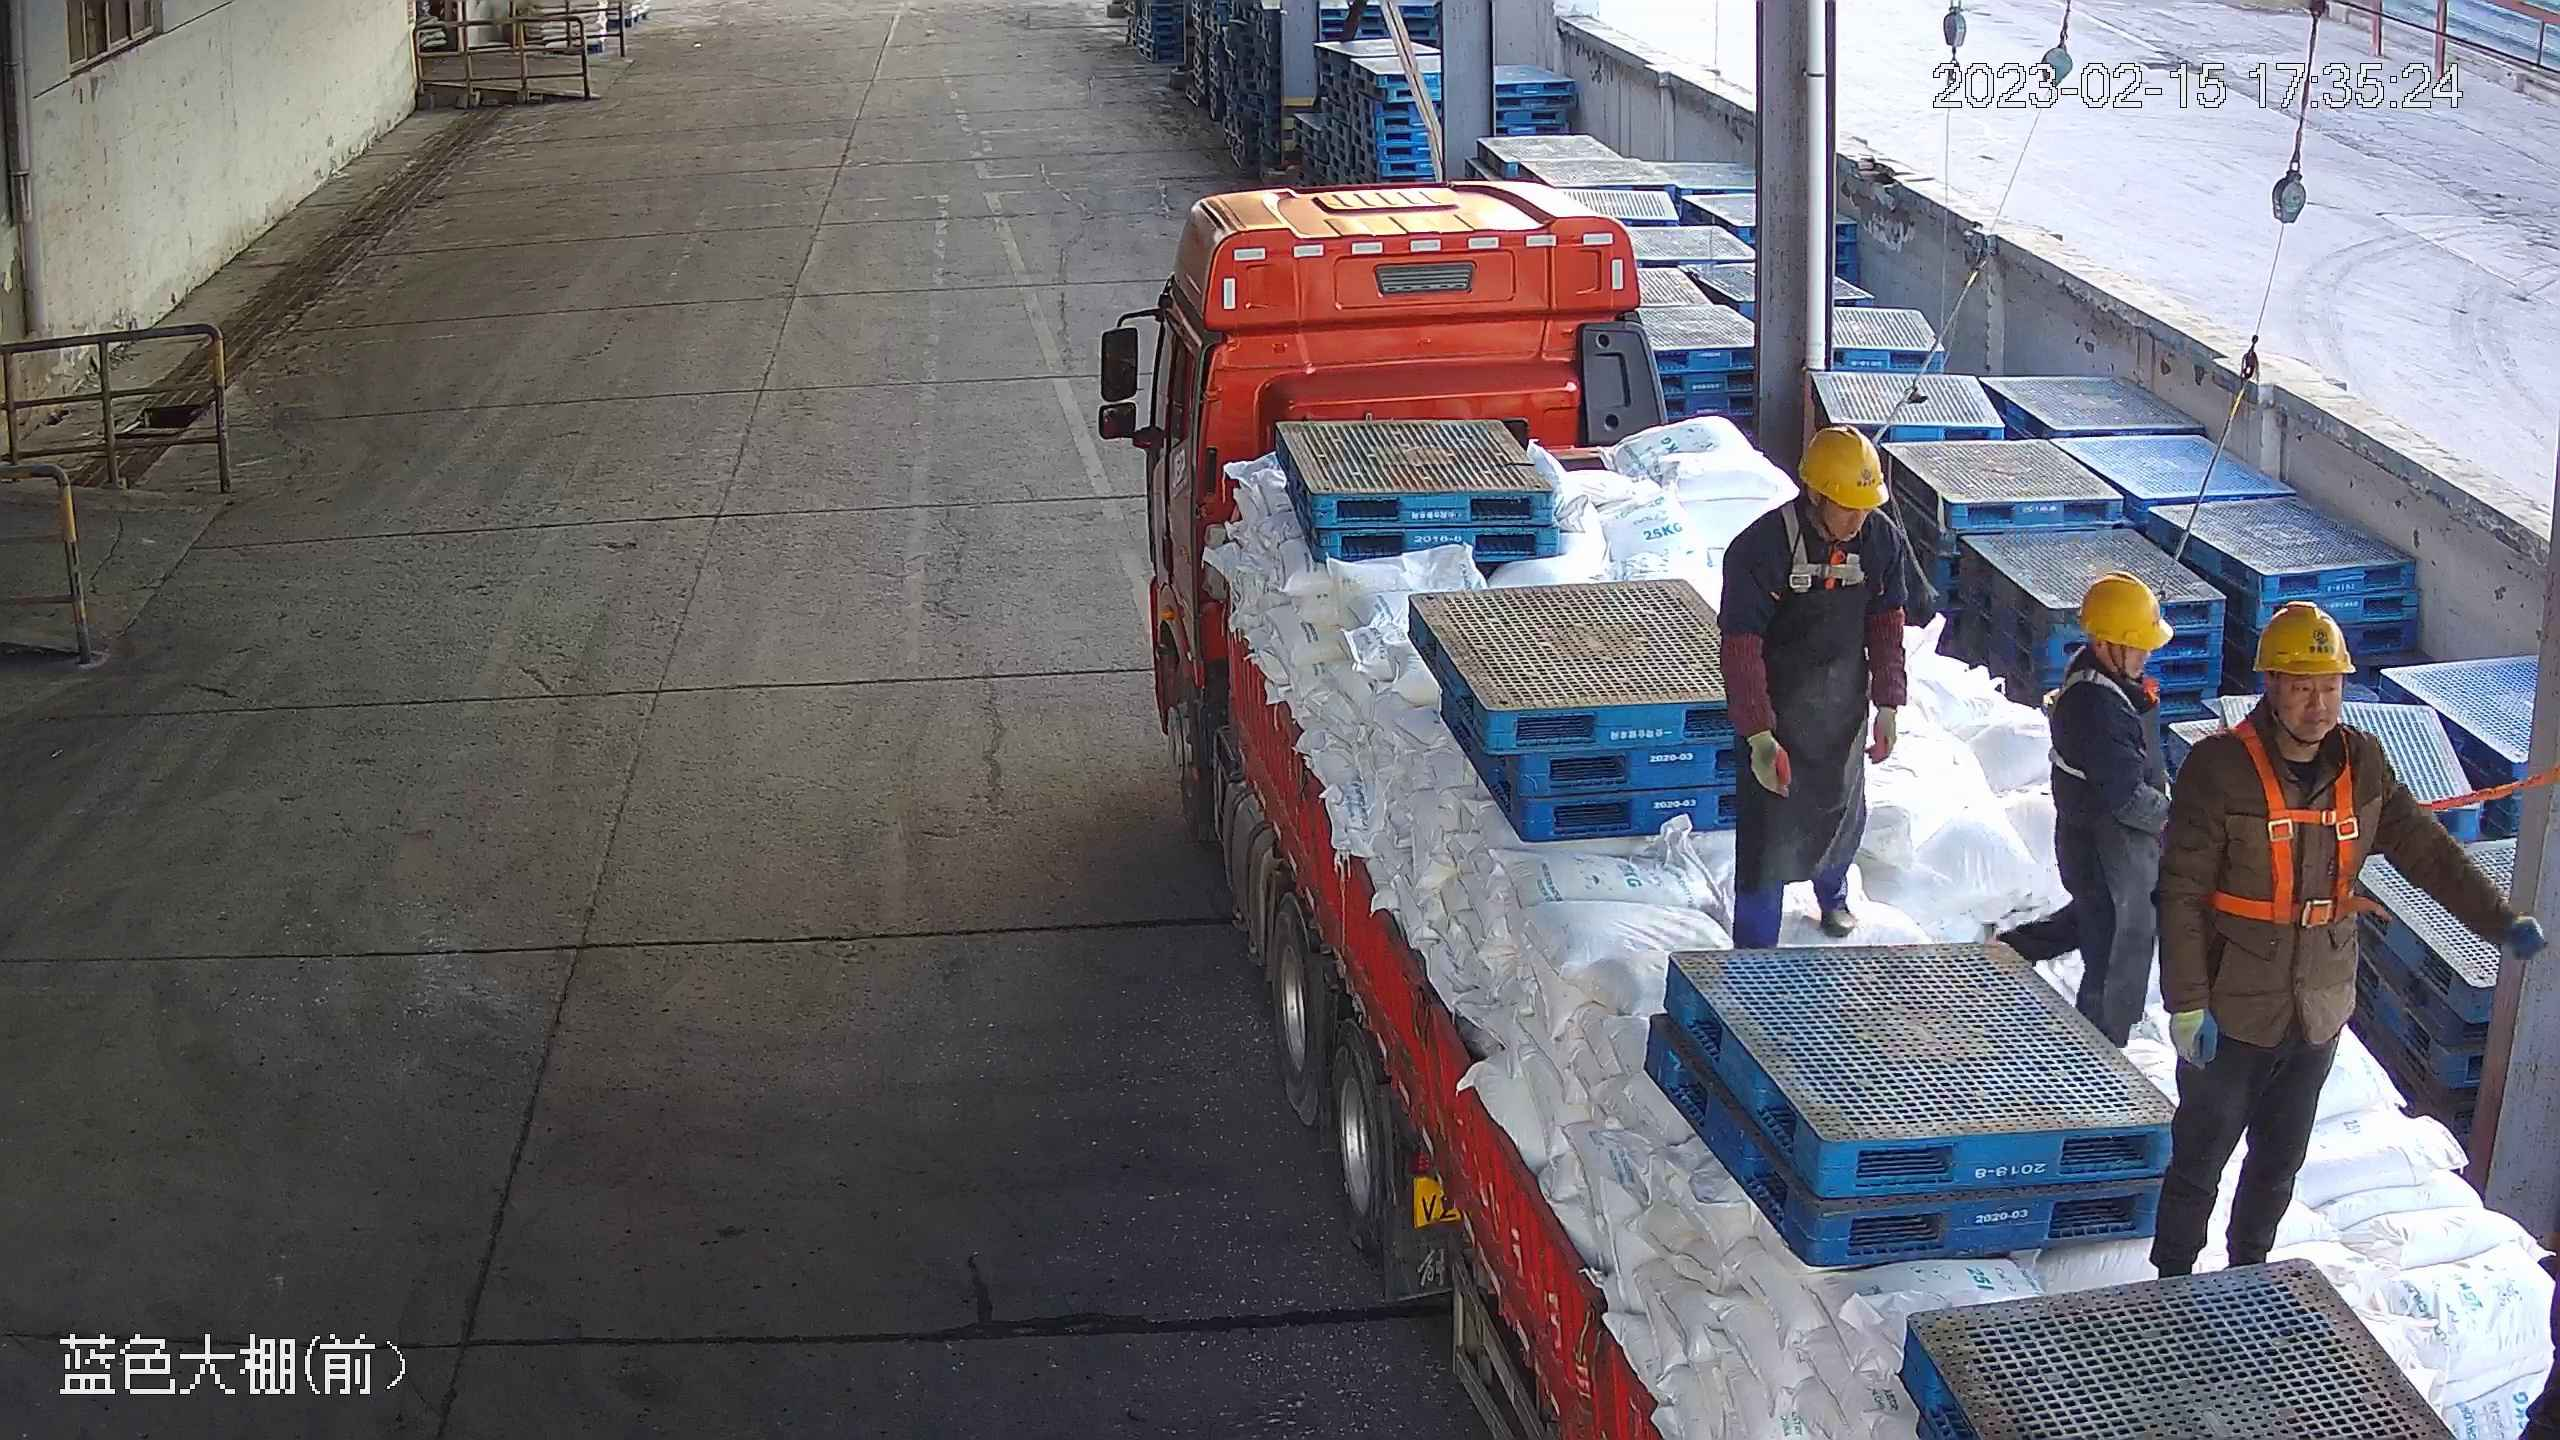belt: (2208, 718, 2447, 929), (2039, 641, 2147, 787), (1766, 477, 1878, 598)
head: (2167, 599, 2405, 802), (1713, 419, 1914, 589), (2049, 571, 2178, 730)
helmet: (1792, 420, 1892, 513), (2250, 599, 2356, 676), (2078, 571, 2176, 651)
people: (2154, 595, 2549, 1288), (1710, 419, 1913, 968), (1987, 568, 2174, 1053)
truck: (1143, 177, 2560, 1440)
